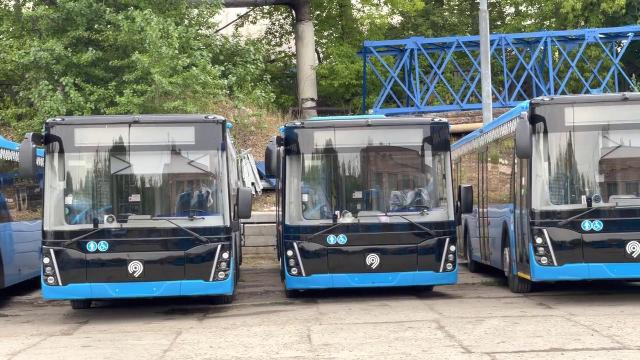bus: (15, 106, 252, 308), (452, 82, 638, 314), (268, 114, 468, 295)
